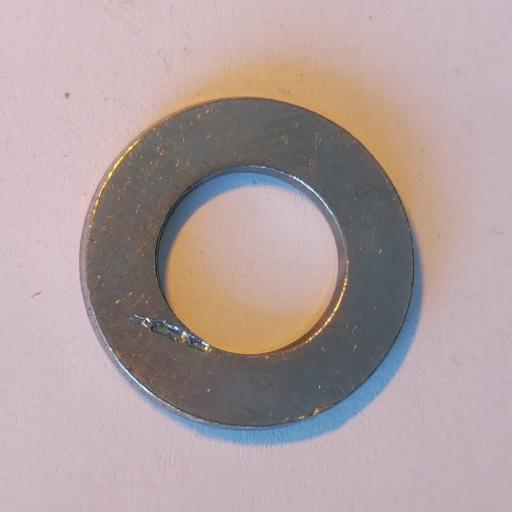scratch: (127, 314, 212, 354)
